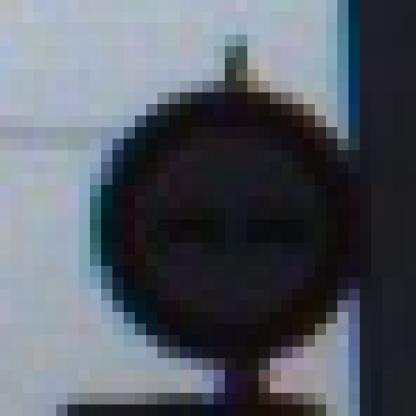No Overtaking: (57, 70, 350, 348)
